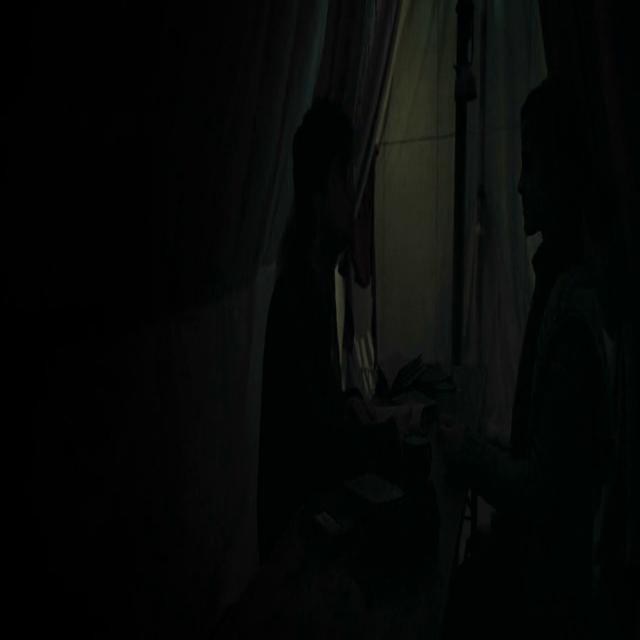Cup: (387, 423, 436, 513)
People: (511, 85, 626, 640), (256, 84, 372, 557)
Table: (238, 333, 505, 640)
